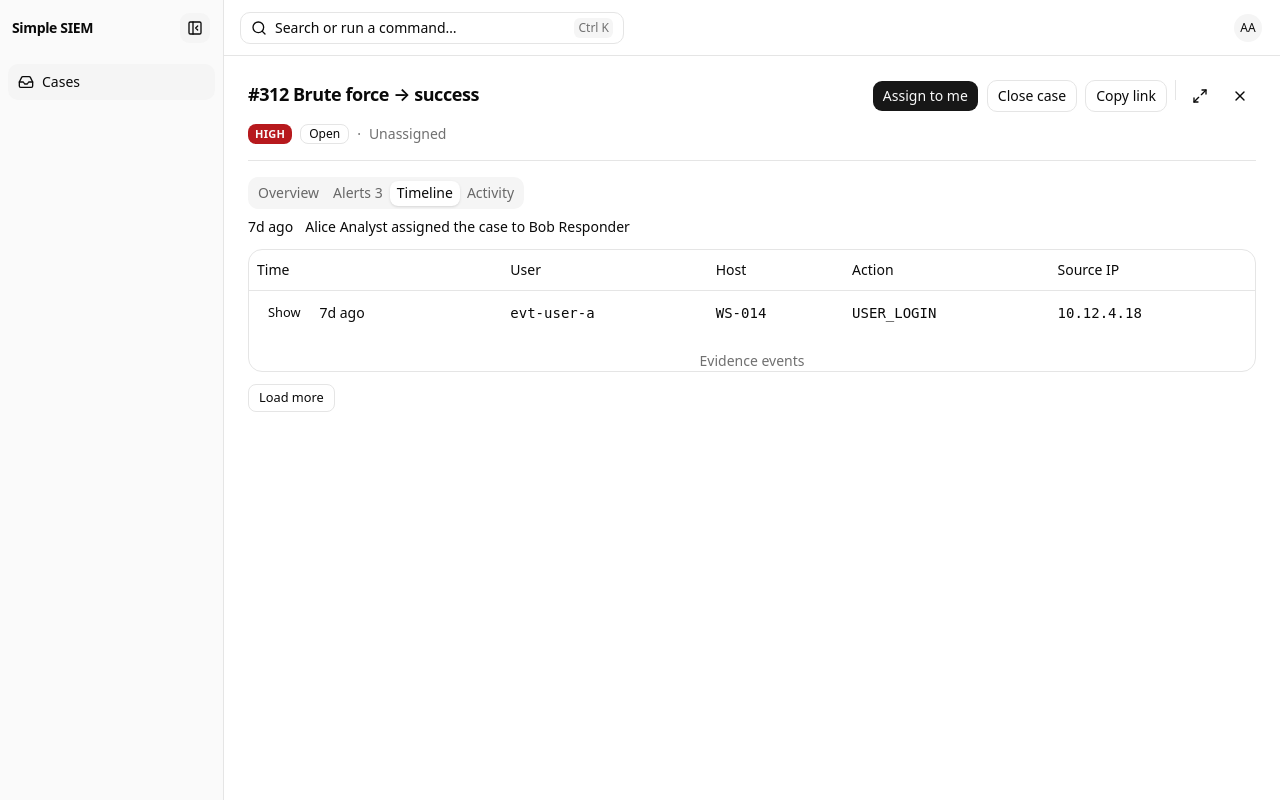
Scenario: case timeline › loads more timeline entries on the cursor
Expected: the text "evt-user-a" is shown, [502,290,708,334]
Click the button "Load more".
click(291, 398)  # box [248,384,335,412]
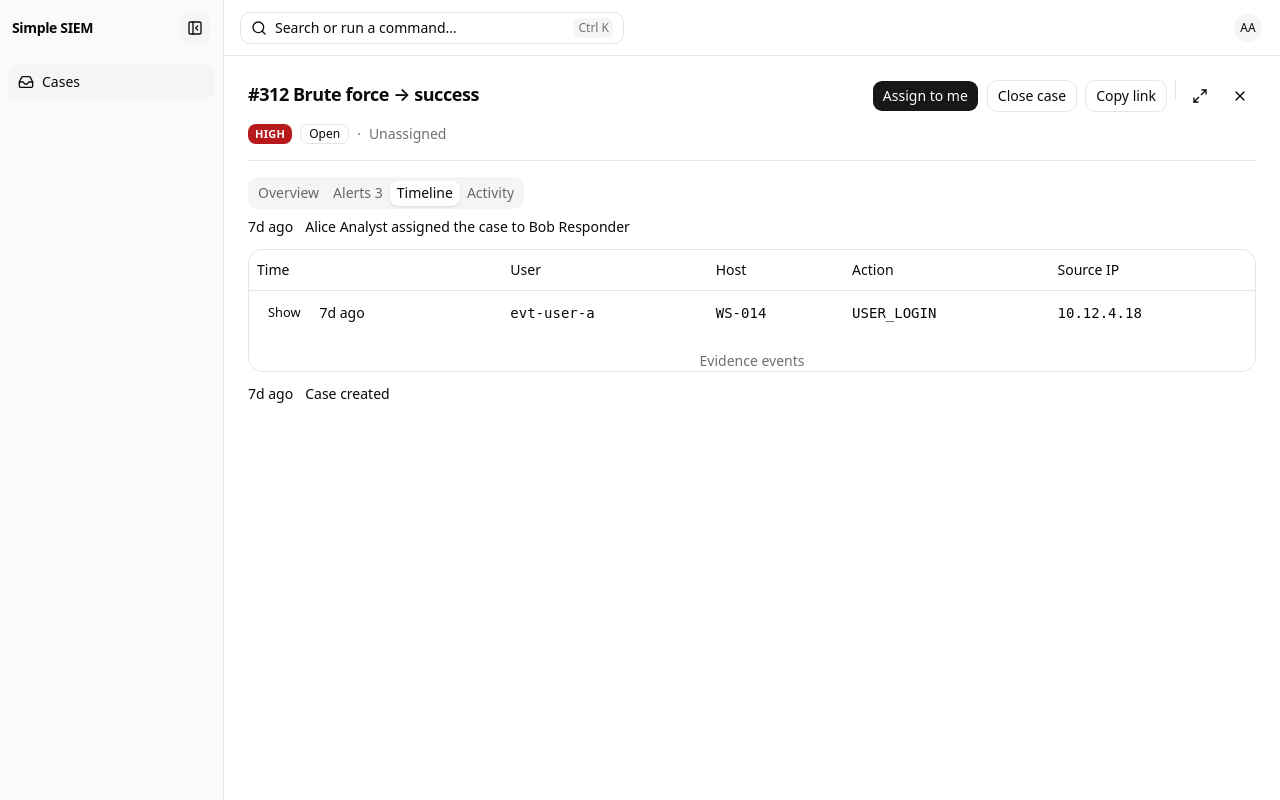
Now the text "Case created" is shown, box [305,384,390,404]
